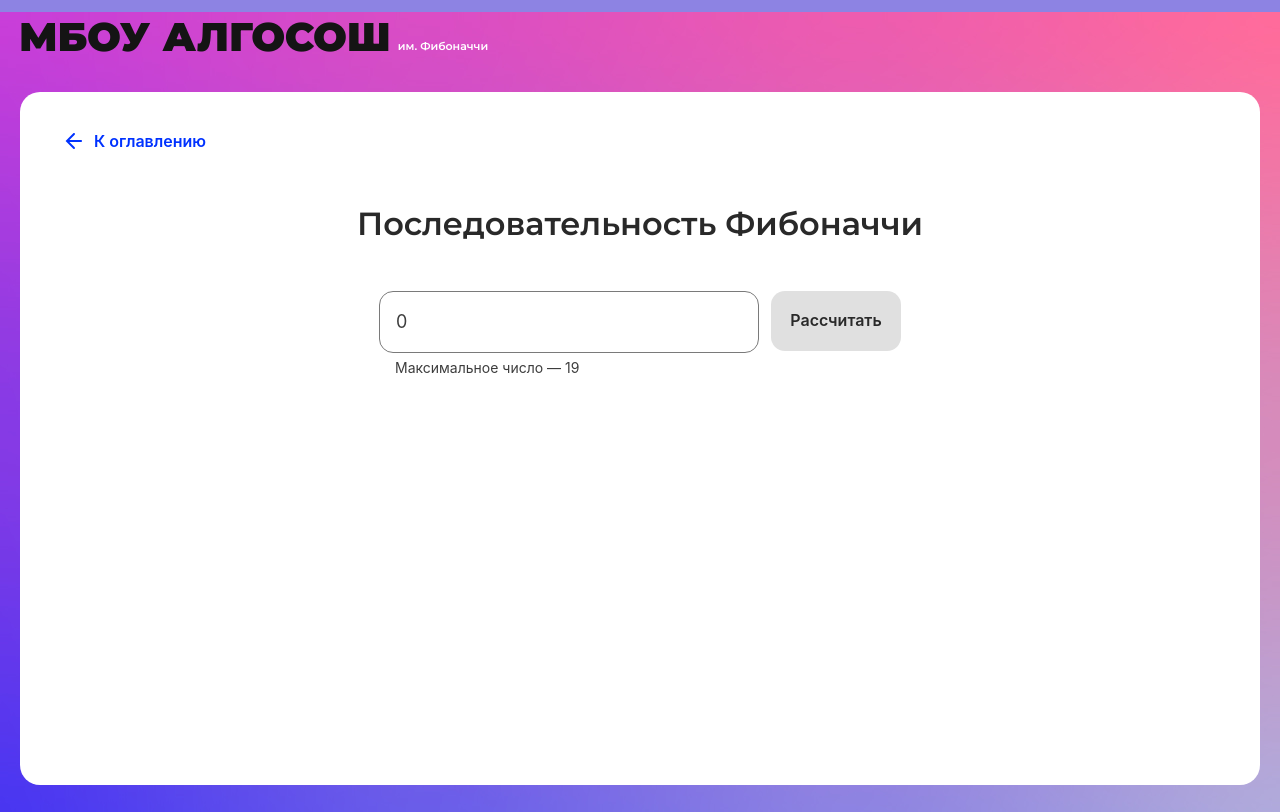
Алгоритм работы кнопки на странице "Последовательность Фибоначчи" › кнопка деактивируется при очистке input
This screenshot has width=1280, height=812.
Type "8" into the number field at x=569, y=322, box [379,291,759,353]
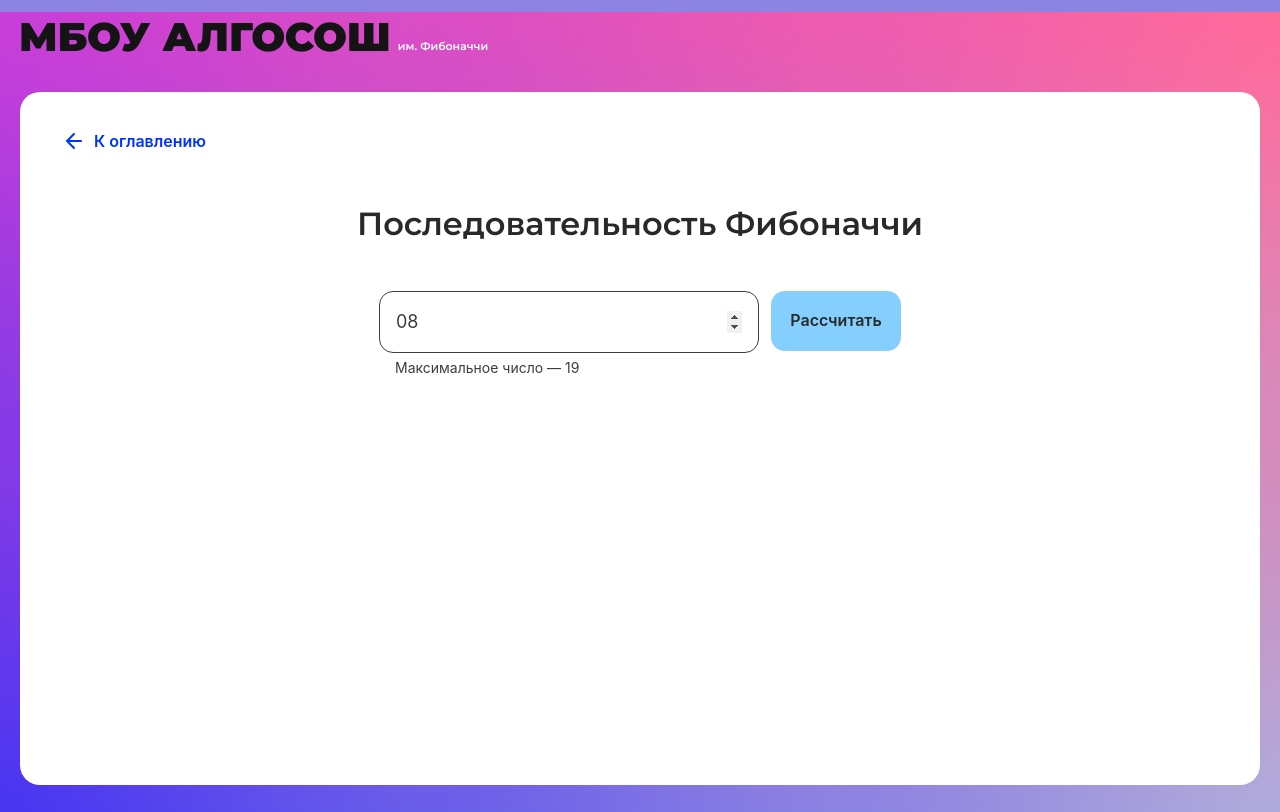
Clear the number field at x=569, y=322, box [379,291,759,353]
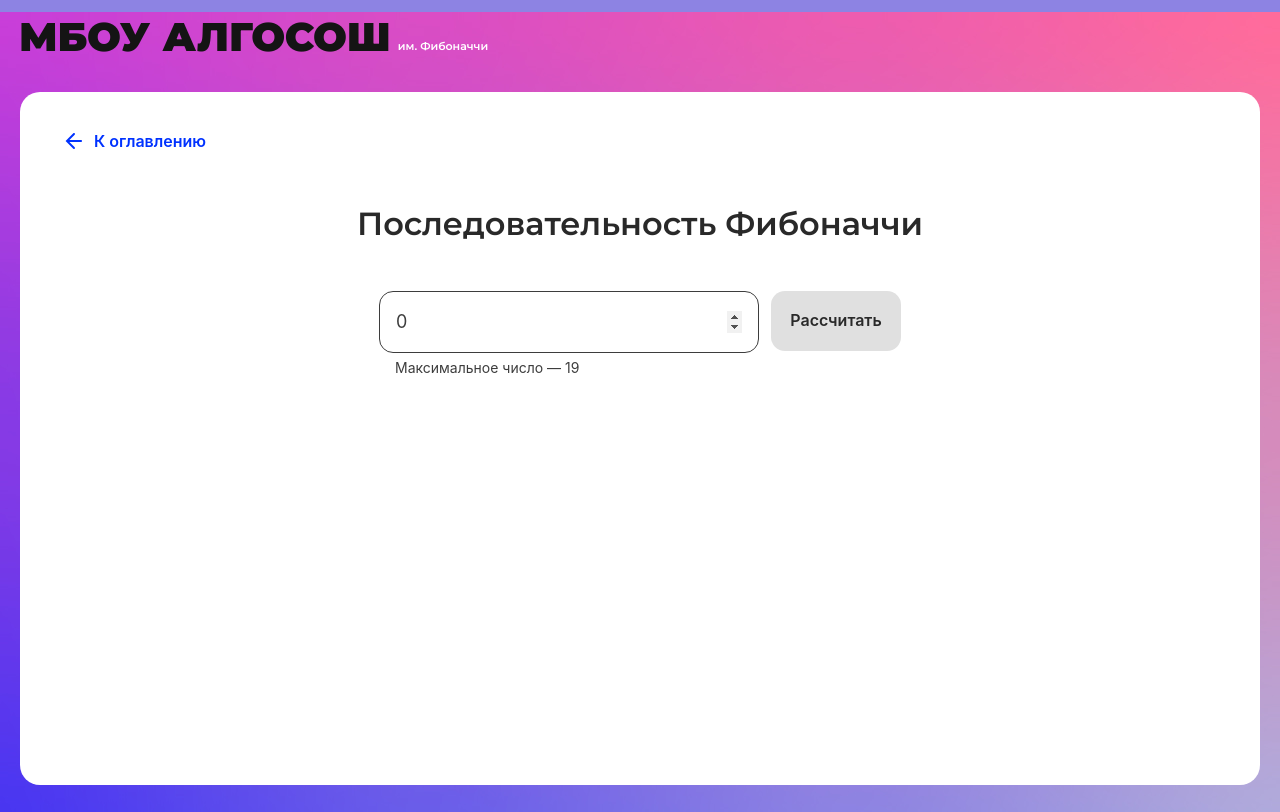
expect the submit button is disabled: met, box [771,291,901,351]
